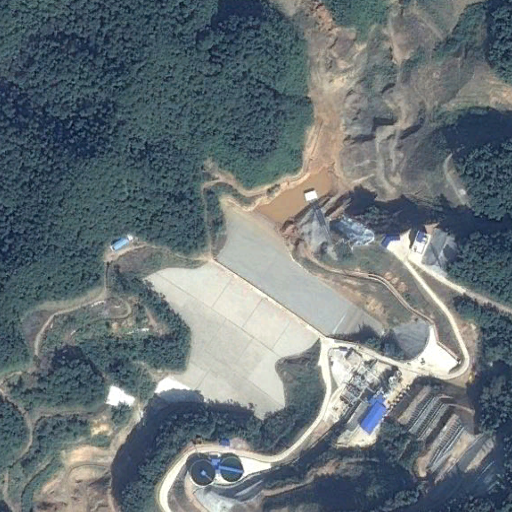tp: (144, 57, 386, 421)
